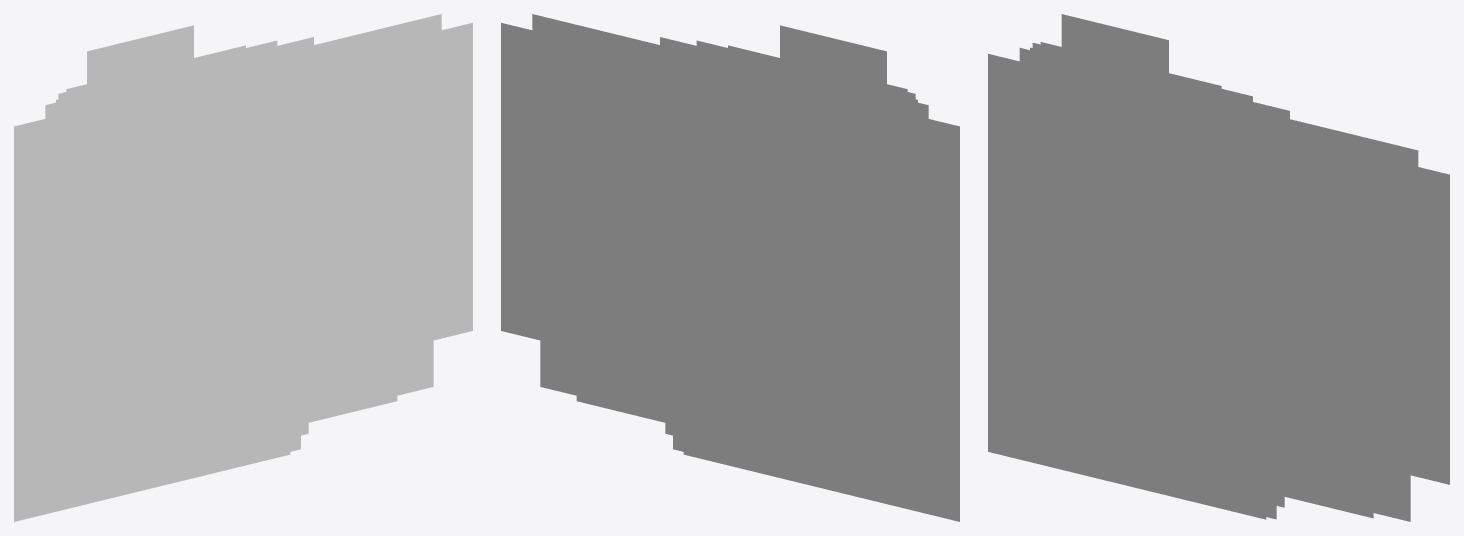
The model's file is BriosoPro_chipped.fbx.
The picture shows the model from 3 angles, left to right: view 1: azimuth 30°, elevation 25°; view 2: azimuth 150°, elevation 25°; view 3: azimuth 330°, elevation 25°; orthographic projection.
Parts seen in each view (by area): view 1: Untitled.073, Untitled.048, Untitled.058, Untitled.039, Untitled.035, Untitled.045, Untitled.090, Untitled.059, Untitled.083, Untitled.094, Untitled.095, Untitled.096 (+33 smaller); view 2: Untitled.096, Untitled.055, Untitled.052, Untitled.058, Untitled.027, Untitled.040, Untitled.057, Untitled.053, Untitled.077, Untitled.059, Untitled.042, Untitled.035 (+25 smaller); view 3: Untitled.083, Untitled.077, Untitled.039, Untitled.058, Untitled.061, Untitled.052, Untitled.035, Untitled.022, Untitled.007, Untitled.095, Untitled.048, Untitled.075 (+38 smaller).
Part boxes in pixels (x1,y1,x2,y2): Untitled.073: [50, 55, 264, 426]; Untitled.048: [54, 14, 441, 428]; Untitled.058: [40, 22, 472, 435]; Untitled.039: [48, 48, 358, 406]; Untitled.035: [84, 52, 397, 475]; Untitled.045: [16, 124, 240, 496]; Untitled.090: [48, 100, 365, 431]; Untitled.059: [56, 83, 368, 388]; Untitled.083: [42, 147, 282, 511]; Untitled.094: [61, 48, 248, 493]; Untitled.095: [87, 25, 193, 503]; Untitled.096: [63, 47, 251, 475]; Untitled.096: [722, 47, 910, 493]; Untitled.055: [626, 42, 917, 409]; Untitled.052: [540, 30, 800, 448]; Untitled.058: [501, 22, 933, 436]; Untitled.027: [698, 92, 910, 409]; Untitled.040: [660, 37, 915, 399]; Untitled.057: [600, 47, 933, 433]; Untitled.053: [621, 49, 865, 370]; Untitled.077: [785, 88, 959, 521]; Untitled.059: [605, 48, 890, 382]; Untitled.042: [603, 45, 909, 356]; Untitled.035: [576, 52, 815, 454]; Untitled.083: [1017, 133, 1258, 514]; Untitled.077: [988, 53, 1163, 494]; Untitled.039: [1024, 69, 1334, 450]; Untitled.058: [1014, 80, 1449, 484]; Untitled.061: [1044, 68, 1315, 442]; Untitled.052: [1041, 73, 1410, 521]; Untitled.035: [1045, 98, 1373, 518]; Untitled.022: [1038, 84, 1250, 438]; Untitled.007: [1032, 43, 1252, 469]; Untitled.095: [1061, 14, 1168, 495]; Untitled.048: [1027, 107, 1418, 473]; Untitled.075: [1025, 58, 1276, 385].
Size of the model in its own units: 147 by 138 by 2.25e-05.
Materials: 1 (1 with a texture image).
